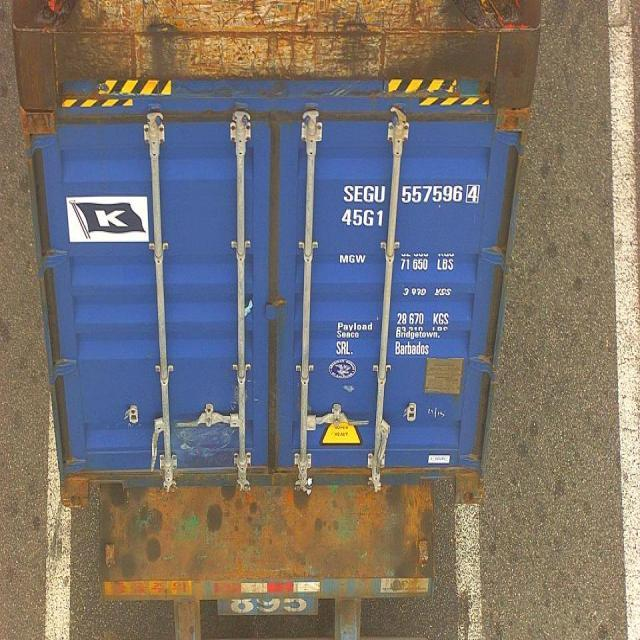ISO: (343, 208, 386, 230)
container_number: (347, 184, 482, 204)
